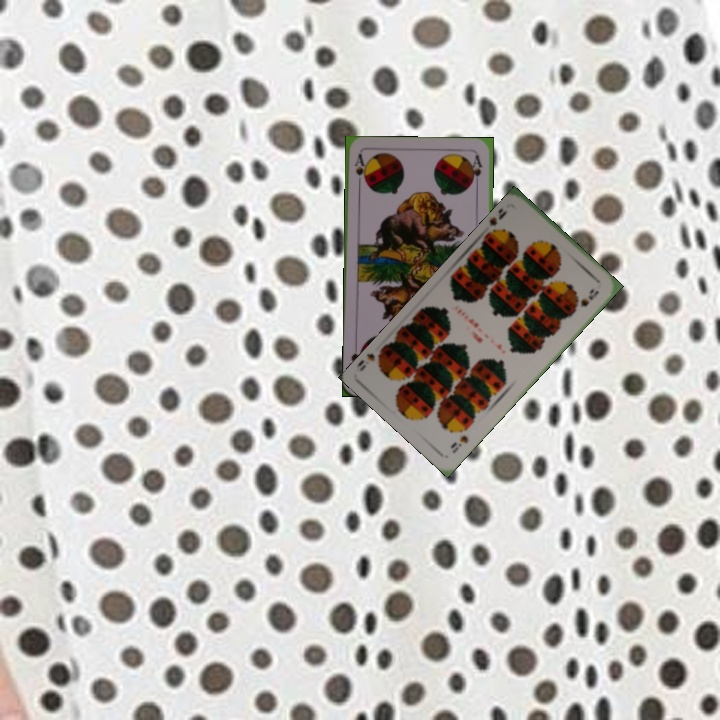S9: (483, 205, 510, 239), (447, 431, 471, 456)
SA: (351, 151, 368, 191)
